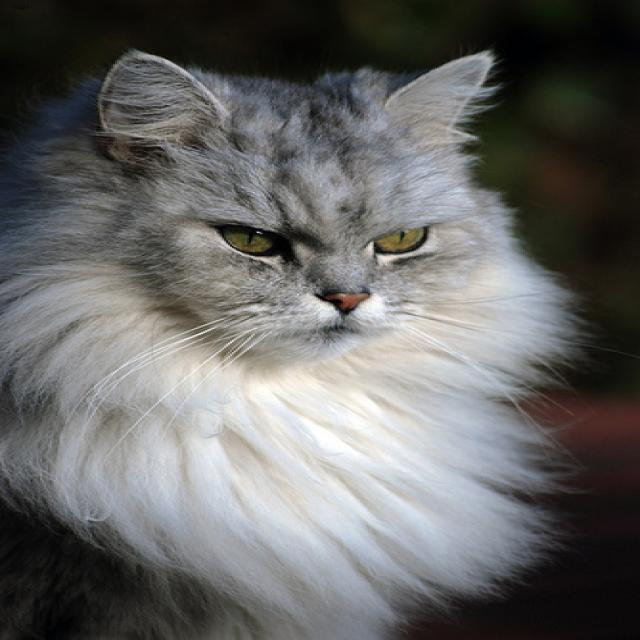Persian: (81, 49, 506, 369)
